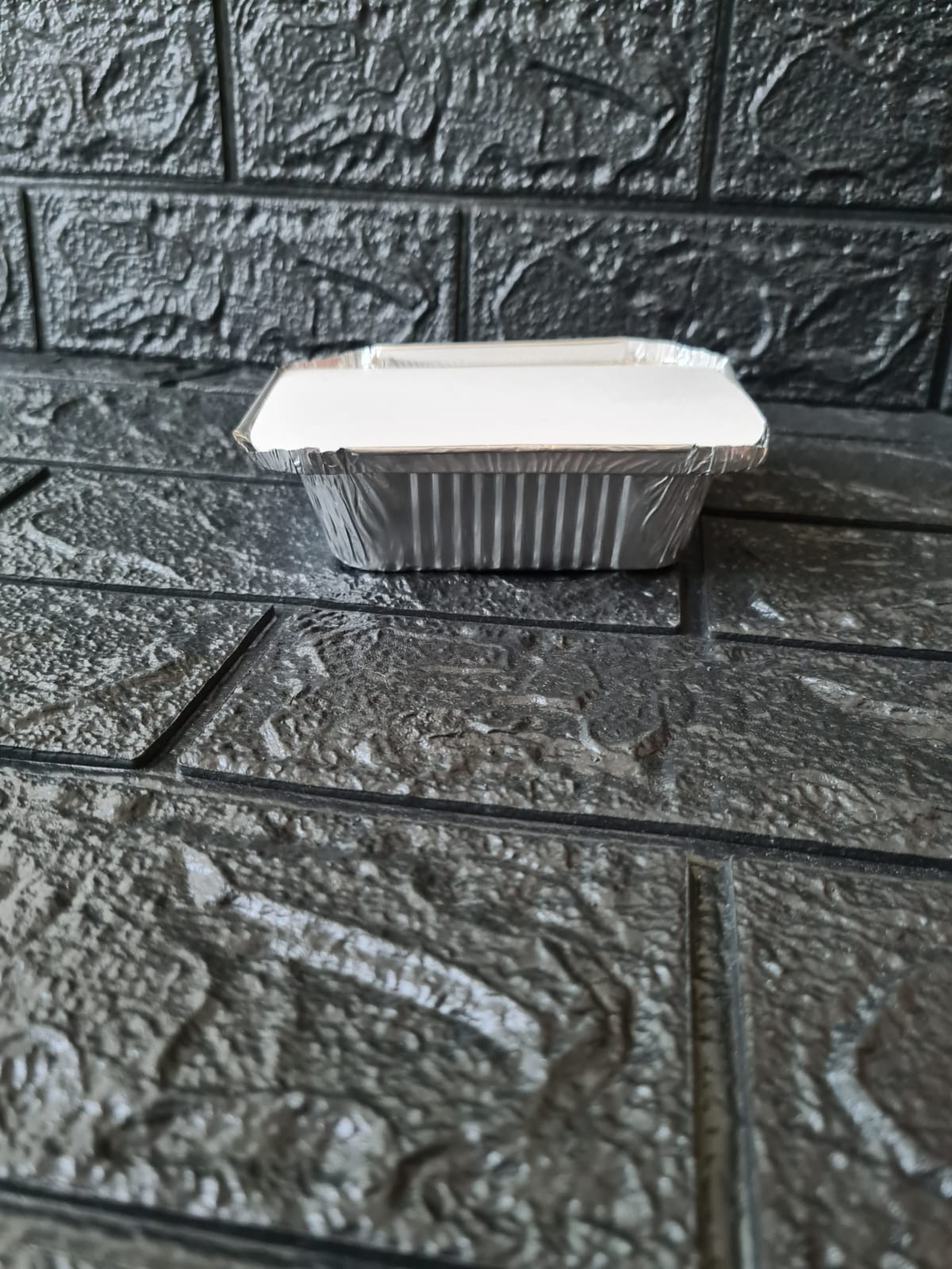Metal: (250, 334, 777, 582)
